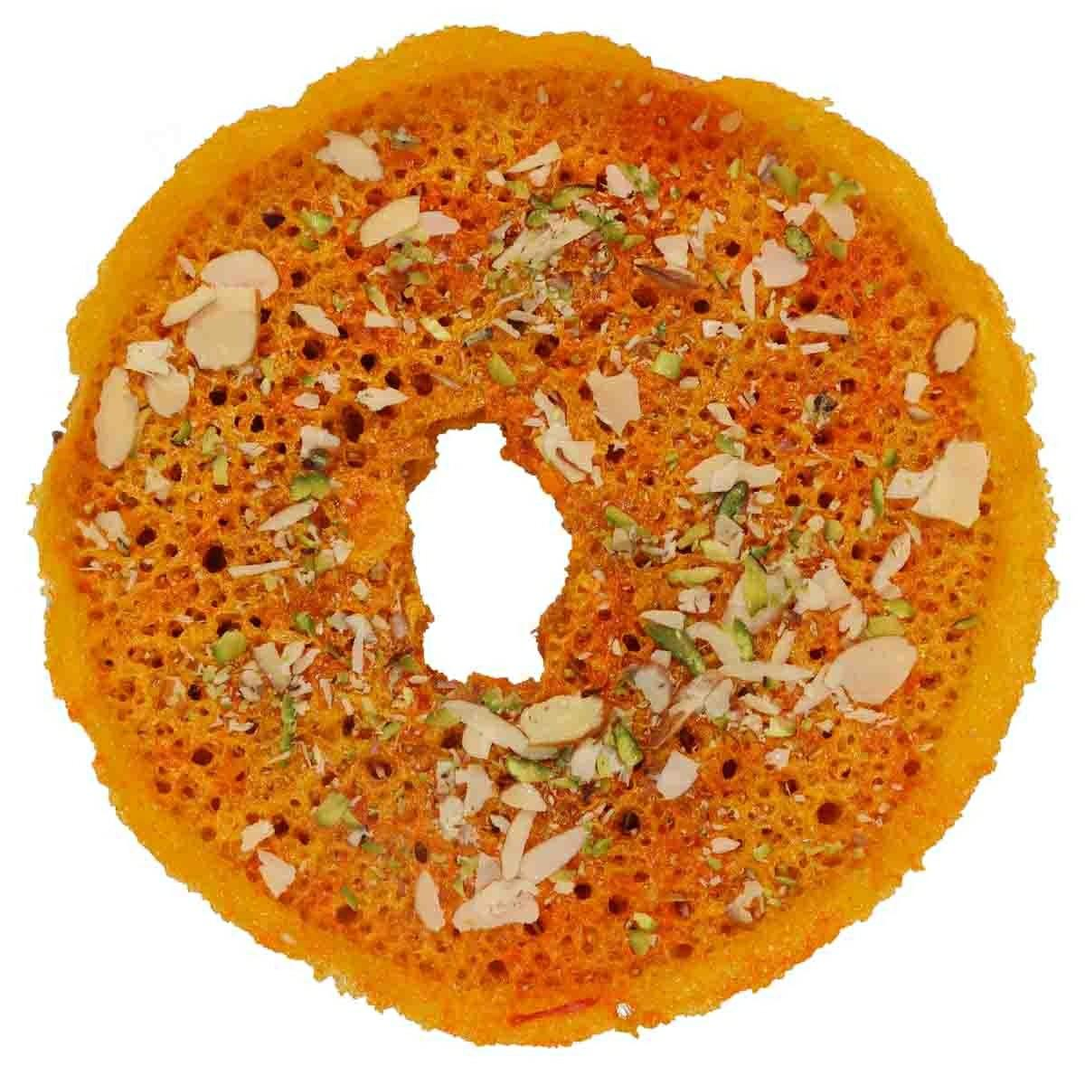Ghevar: (27, 21, 1060, 1043)
